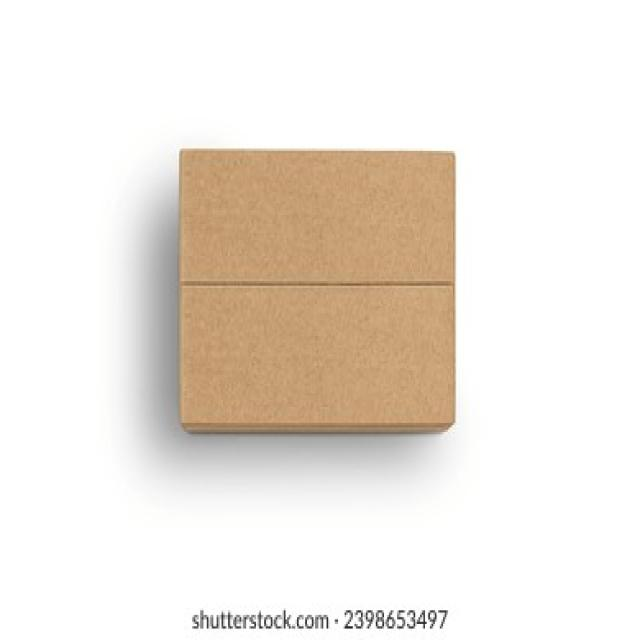box: (173, 136, 478, 454)
